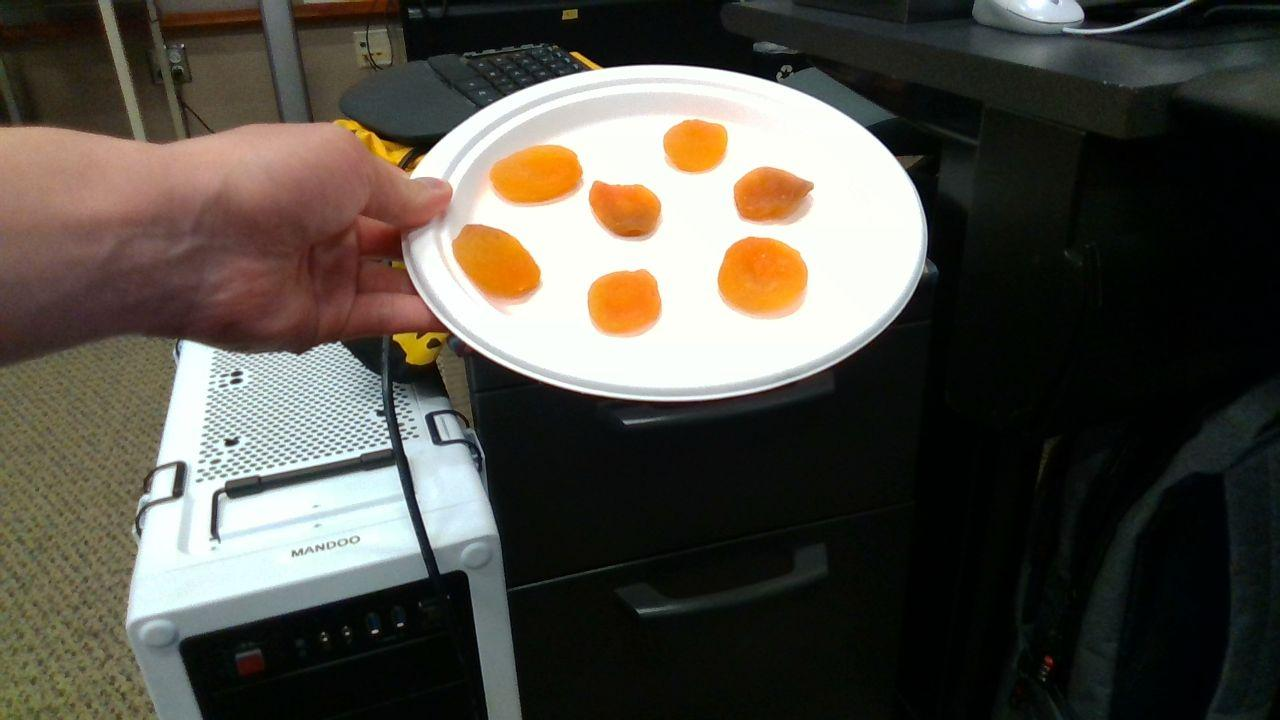apricot: (718, 237, 807, 313), (454, 225, 540, 298), (491, 145, 583, 202), (588, 268, 660, 335), (733, 167, 814, 219), (590, 181, 661, 235), (666, 119, 726, 173)
plate: (402, 66, 926, 400)
